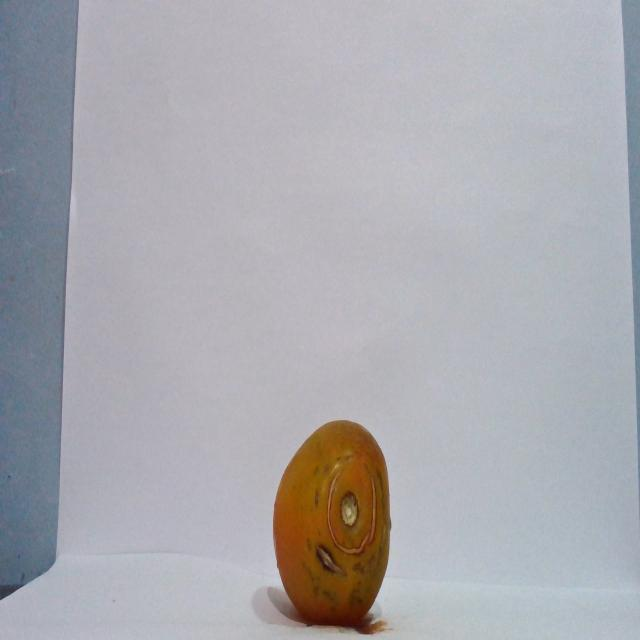Red: (271, 418, 392, 626)
